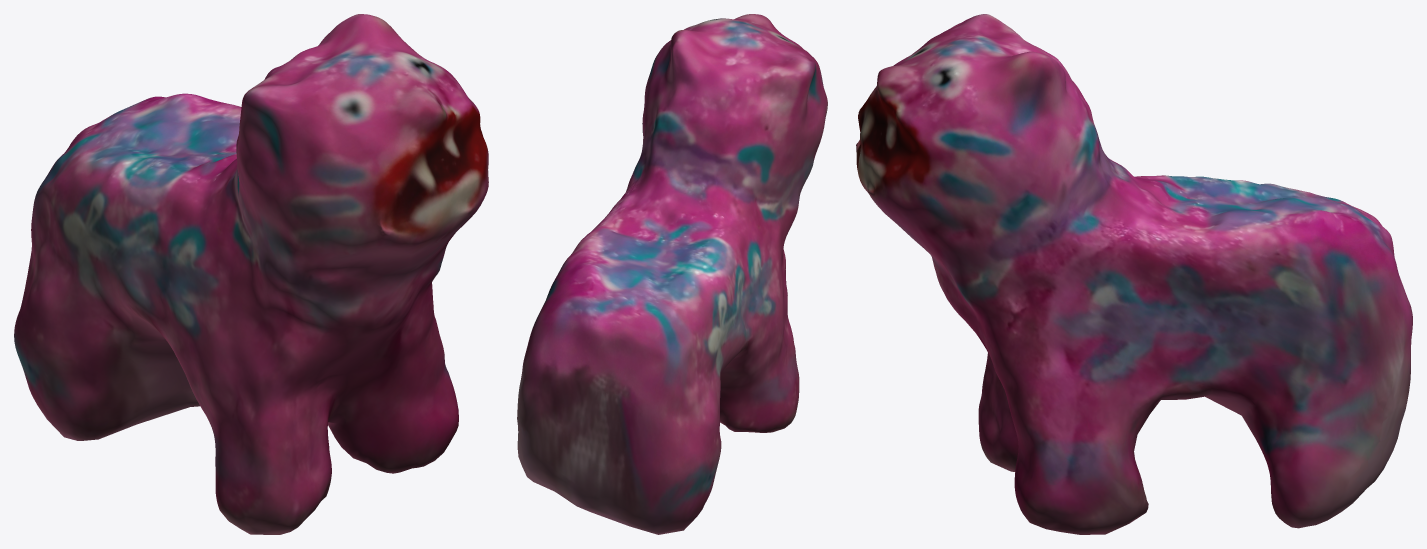
3 renders of one model, left to right at view 1: azimuth 30°, elevation 25°; view 2: azimuth 150°, elevation 25°; view 3: azimuth 270°, elevation 25°, orthographic. The views are drawn at different scales.
Size of the model in its own units: 0.343 by 0.5781 by 0.6136.
1 material, 1 textured.
